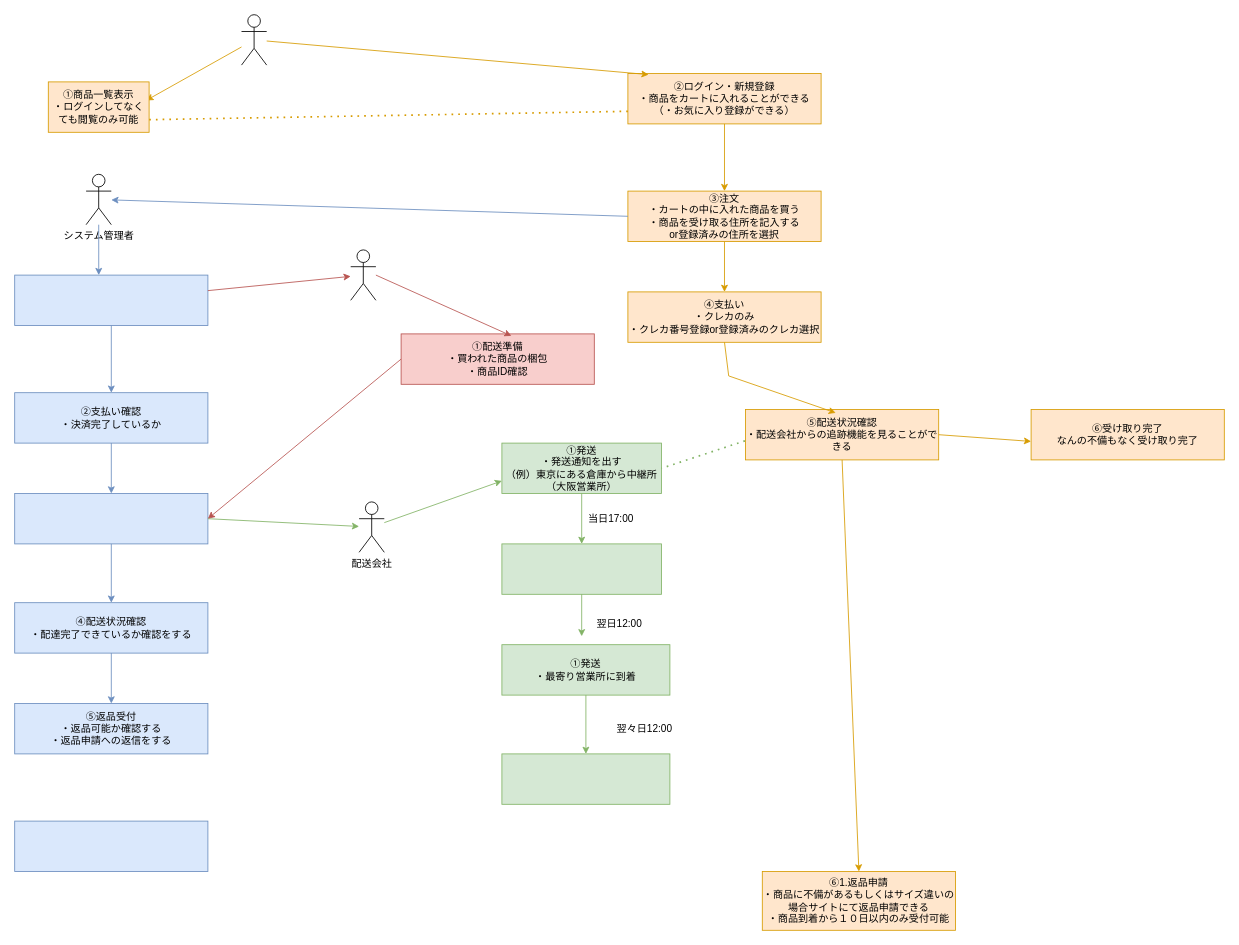
This 1239x945 diagram has some shape labels left out. Each missing label, with the centre of its shape:
"①在庫処理 ・買われた商品を確保 ・在庫数を更新しておく ・商品管理者へ連絡" goes at (111,300).
"①発送 ・中継所に到着 （例）中継所（大阪営業所）から最寄り営業所" goes at (581,568).
"①配達完了 ・お客さんの家に到着" goes at (585,778).
"③出荷処理 ・配送会社へお願いする ・伝票作成" goes at (111,518).
"⑥受領 ・" goes at (111,846).
"商品管理者" goes at (363,274).
"顧客" goes at (254,39).
